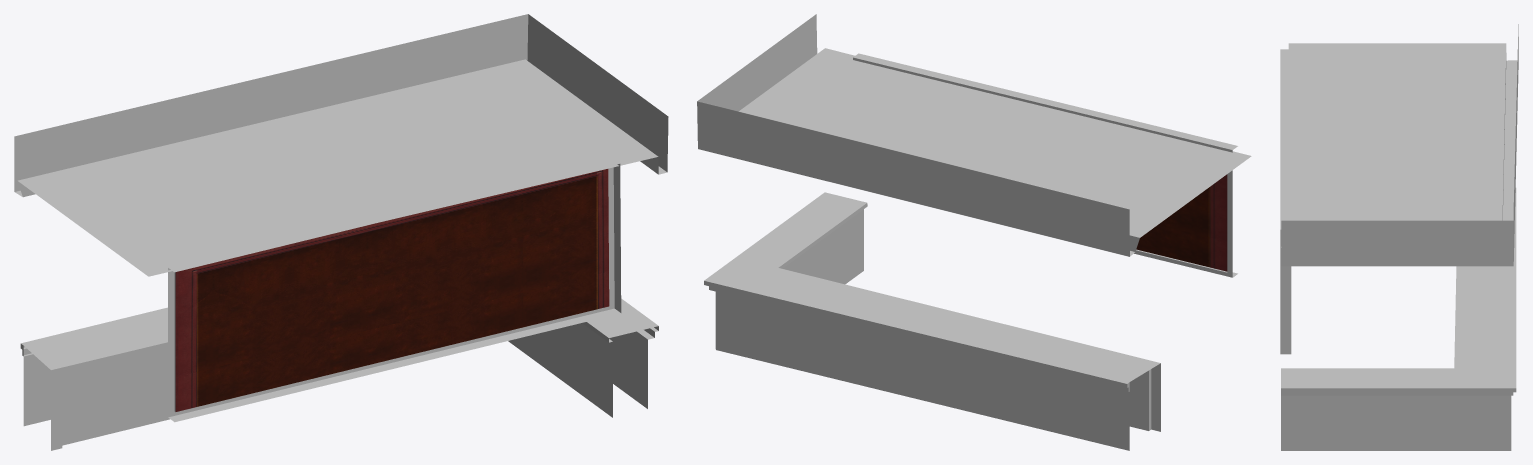
File: Rct.fbx
3 renders of one model, left to right at view 1: azimuth 30°, elevation 25°; view 2: azimuth 150°, elevation 25°; view 3: azimuth 270°, elevation 25°, orthographic. The views are drawn at different scales.
Visible parts, largest first — view 1: Mesh (55); view 2: Mesh (55); view 3: Mesh (55).
Part boxes in pixels (x1,y1,x2,y2): Mesh (55): (14, 14, 668, 450); Mesh (55): (697, 14, 1251, 450); Mesh (55): (1280, 24, 1518, 450).
Bounding box in the file's own units: 645 × 344 × 312.
